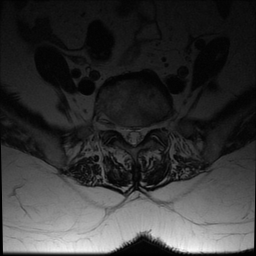CCS_normal: (130, 119, 137, 151)
LFS_stenosis: (146, 119, 154, 137)
LLS_normal: (137, 120, 145, 146)
RFS_normal: (114, 118, 122, 138)
RLS_normal: (122, 119, 130, 147)
